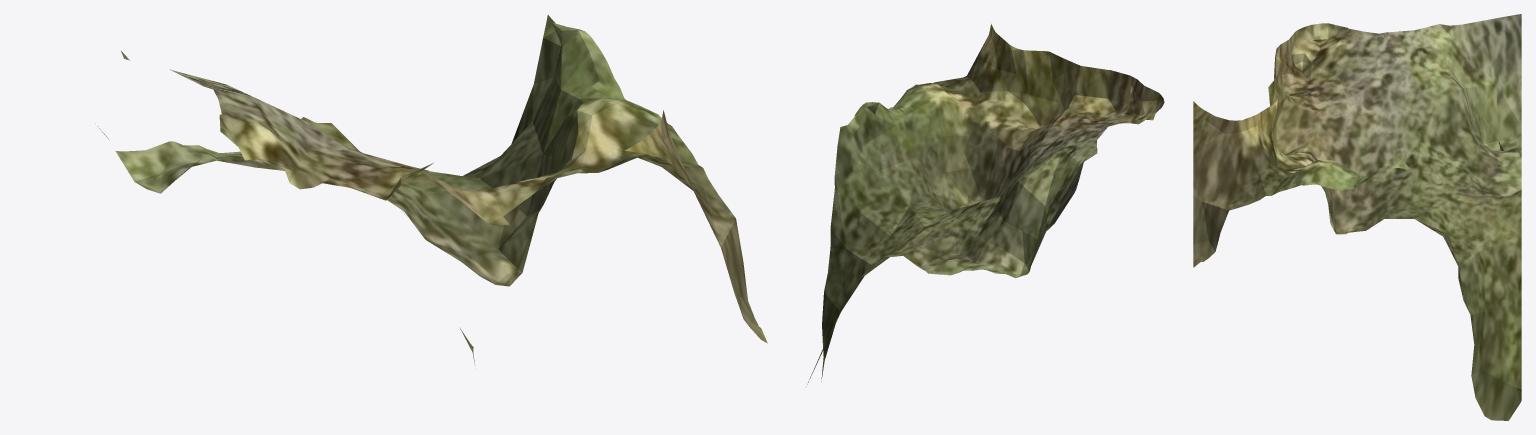
3 renders of one model, left to right at view 1: azimuth 30°, elevation 25°; view 2: azimuth 150°, elevation 25°; view 3: azimuth 270°, elevation 25°, orthographic. The views are drawn at different scales.
Size of the model in its own units: 2.68 by 2.78 by 2.95.
Materials: 3 (3 with a texture image).
